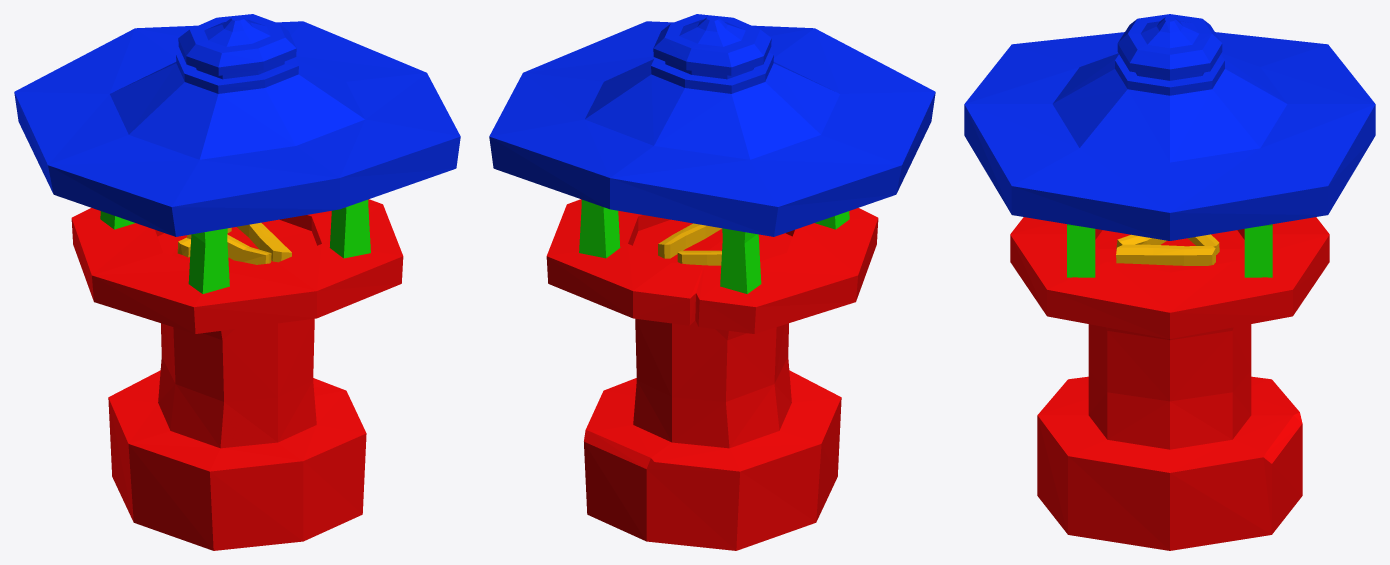
File: Lantern_1.fbx
The picture shows the model from 3 angles, left to right: view 1: azimuth 30°, elevation 25°; view 2: azimuth 150°, elevation 25°; view 3: azimuth 270°, elevation 25°; orthographic projection.
Visible parts, largest first — view 1: Lantern_1; view 2: Lantern_1; view 3: Lantern_1.
Boxes of the visible parts, x1=… form: Lantern_1: x1=14, y1=14, x2=460, y2=550; Lantern_1: x1=489, y1=14, x2=935, y2=550; Lantern_1: x1=964, y1=14, x2=1375, y2=550.
Size of the model in its own units: 95.75 by 116 by 89.57.
